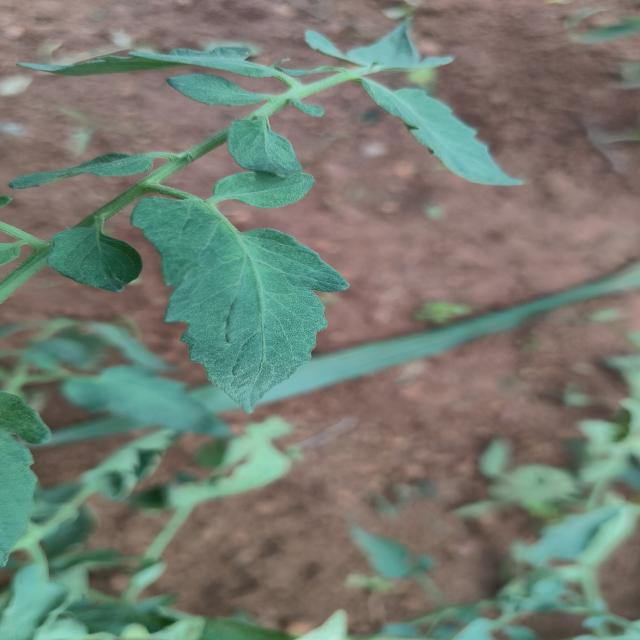tomato_healthy: (131, 198, 347, 412), (360, 77, 522, 185), (46, 218, 140, 292), (227, 116, 301, 176)
